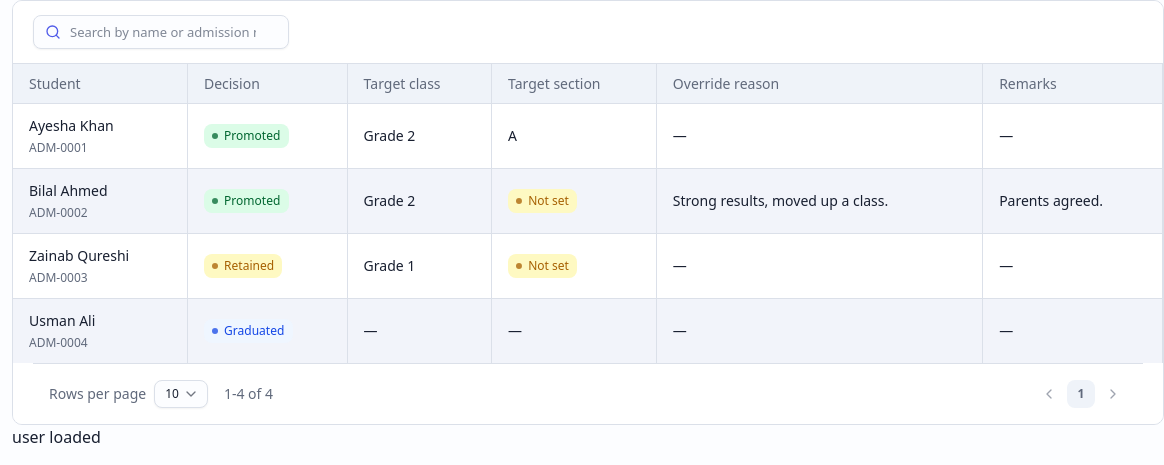
it: PromotionDecisionTable › search › finds a student by name, ignoring case and surrounding space
The image size is (1164, 465).
Expected: the text "user loaded" is shown, [12,426,101,448]
Type "  BIL " into the field named "Search students" at (161, 32), box [33,15,289,49]
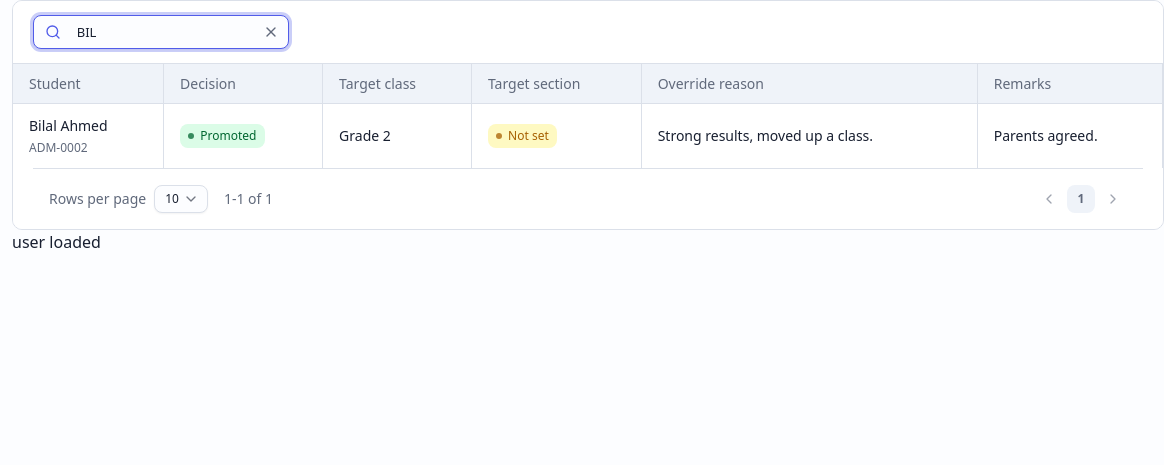
Expected: the text "Bilal Ahmed" is shown, [29,116,108,135]
Expected: the text "Ayesha Khan" is gone
Expected: the text "1-1 of 1" is shown, [224,189,273,209]
